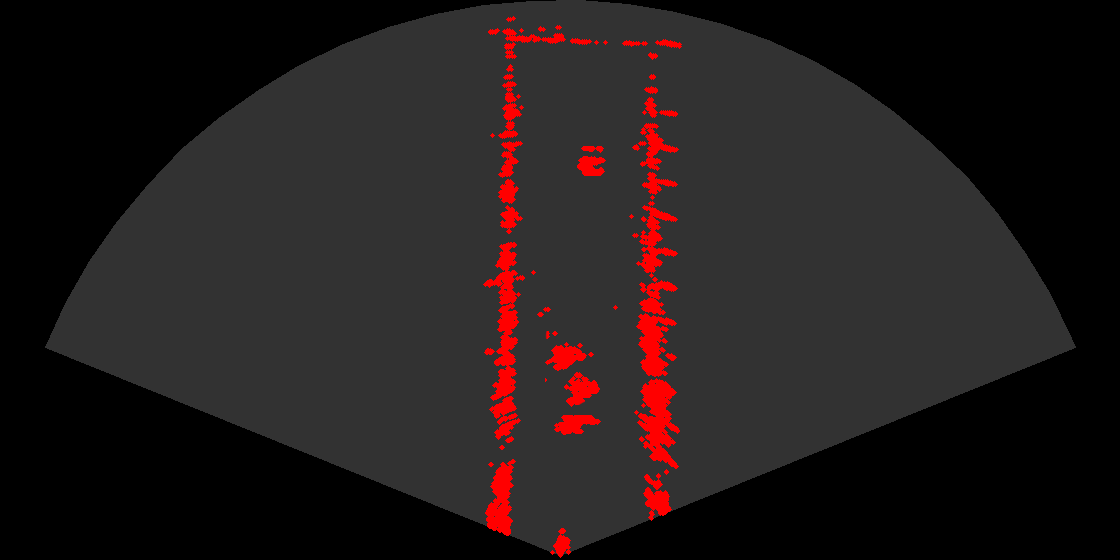AUV: (548, 410, 604, 442)
ball: (557, 138, 617, 179)
cage: (545, 331, 608, 415)
